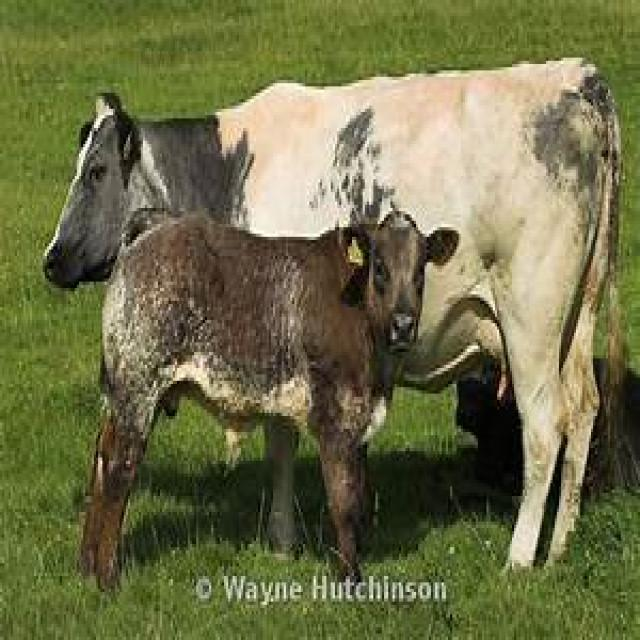cow: (41, 54, 625, 573), (78, 202, 460, 593)
